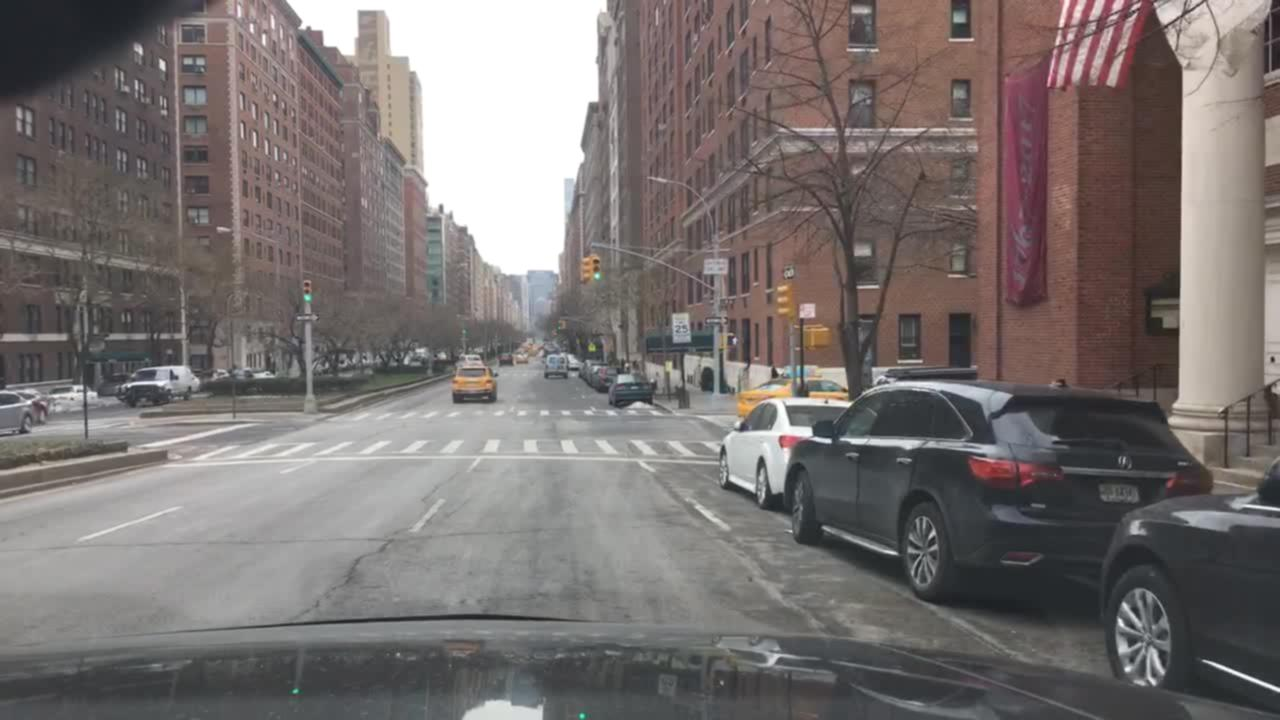acura: (1112, 447, 1137, 474)
